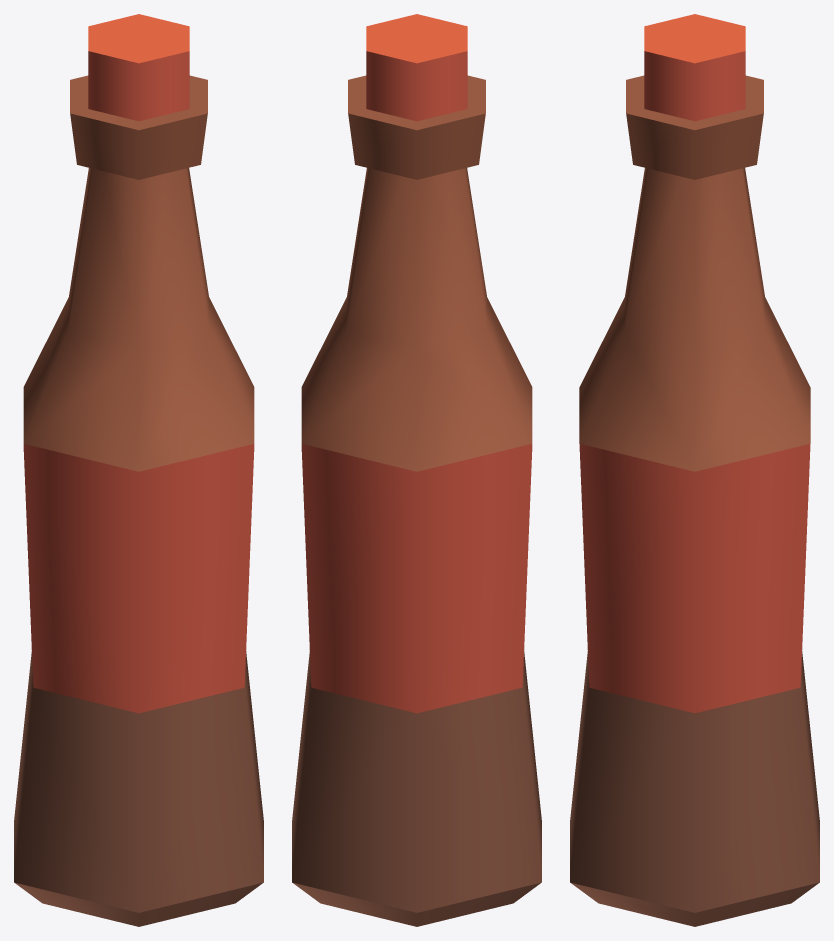
Rendered from garrafa-refri.glb.
3 views of the same model, side by side, from view 1: azimuth 30°, elevation 25°; view 2: azimuth 150°, elevation 25°; view 3: azimuth 270°, elevation 25° (orthographic).
Parts seen in each view (by area): view 1: soda-bottle; view 2: soda-bottle; view 3: soda-bottle.
Boxes of the visible parts, x1=… form: soda-bottle: x1=14, y1=14, x2=263, y2=926; soda-bottle: x1=292, y1=14, x2=541, y2=926; soda-bottle: x1=570, y1=14, x2=819, y2=926.
Size of the model in its own units: 0.1805 by 0.5804 by 0.1563.
